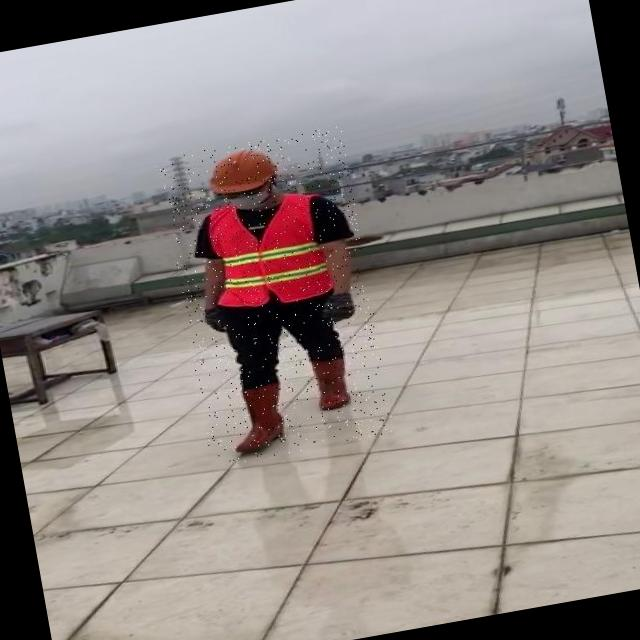boots: (224, 379, 294, 456), (304, 352, 354, 412)
helmet: (200, 141, 284, 198)
vest: (200, 192, 336, 312)
